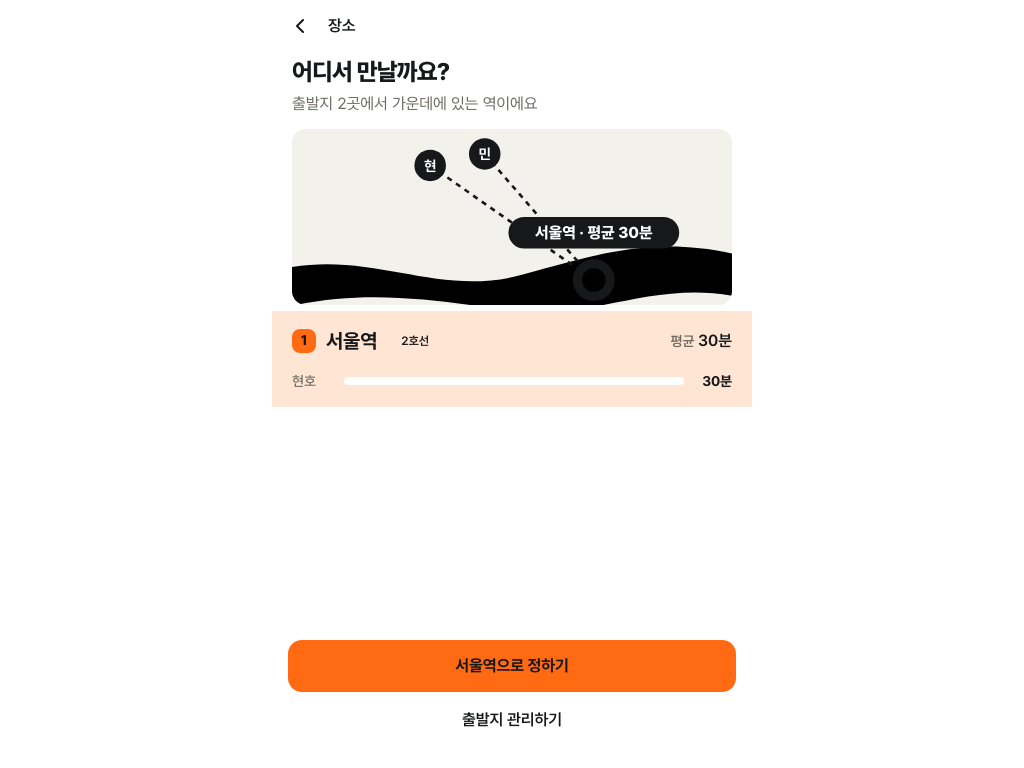
Test: 이름이 이미 역으로 끝나면 역을 또 붙이지 않는다
What coordinates should you click on to do the following:
click the button "서울역으로 정하기"
I would click on:
 (512, 666)
Its box is [288, 640, 736, 692].
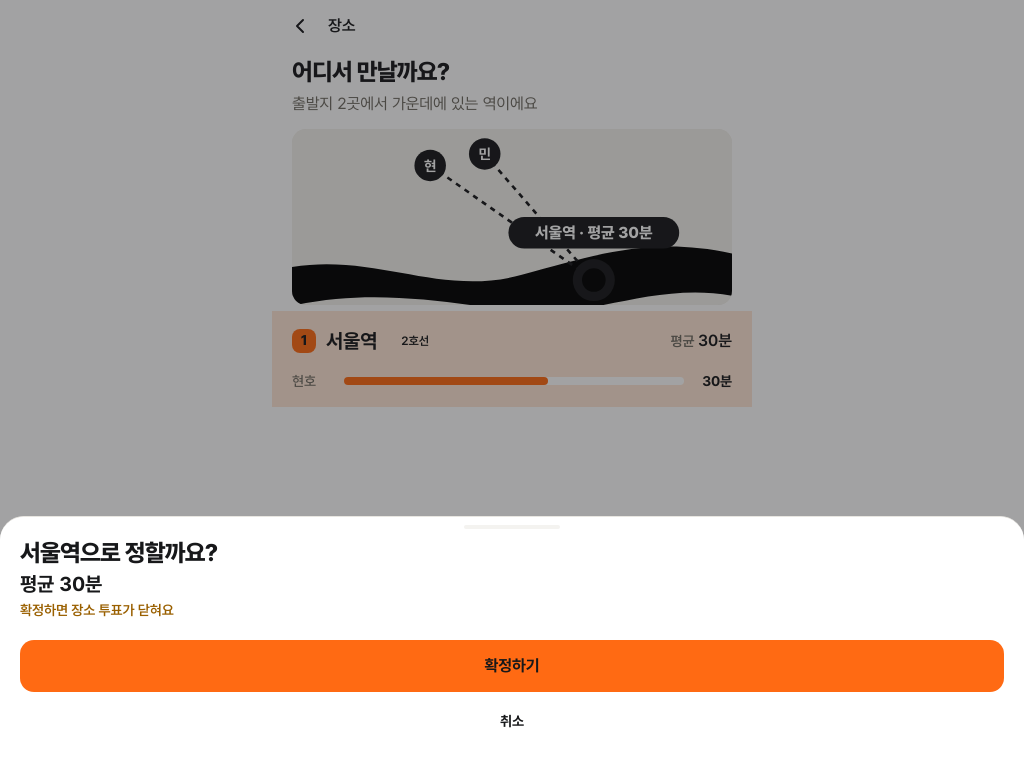
Result: the dialog "서울역으로 정할까요?" is shown at [0, 516, 1023, 767]
